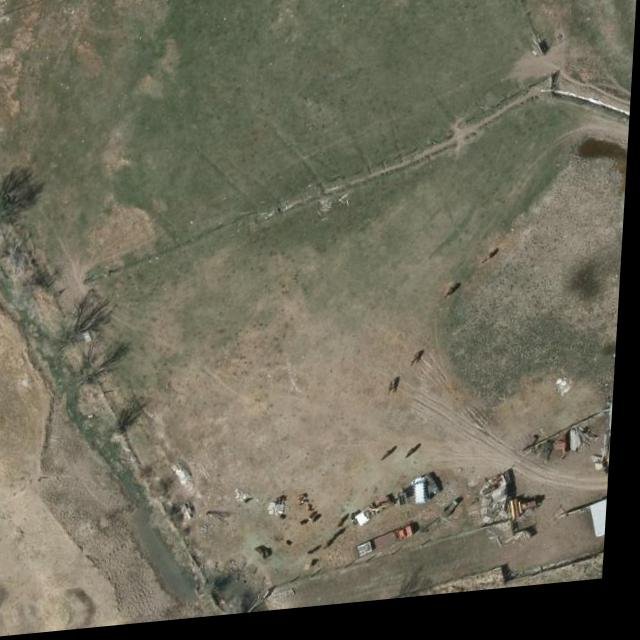vehicle: (363, 532, 425, 566), (360, 504, 403, 535), (414, 485, 441, 517)
